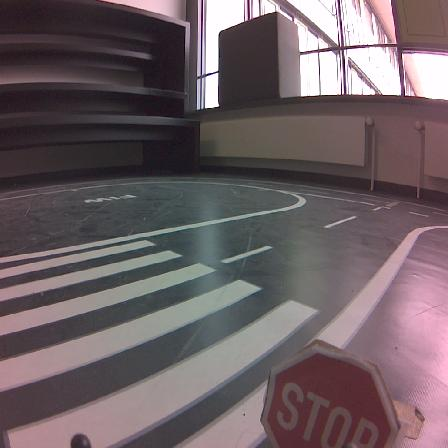STOP: (261, 341, 398, 447)
